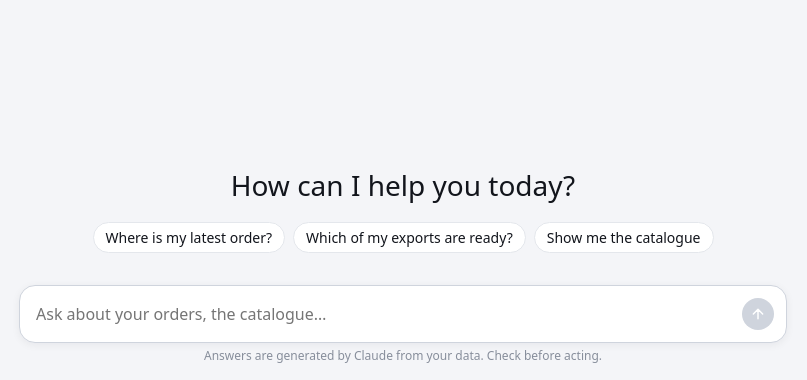
Test: AssistantPage › shows the error when the answer fails part-way
In the text box named "Your question": (385, 314) [36,298,734,330], type "Why?"
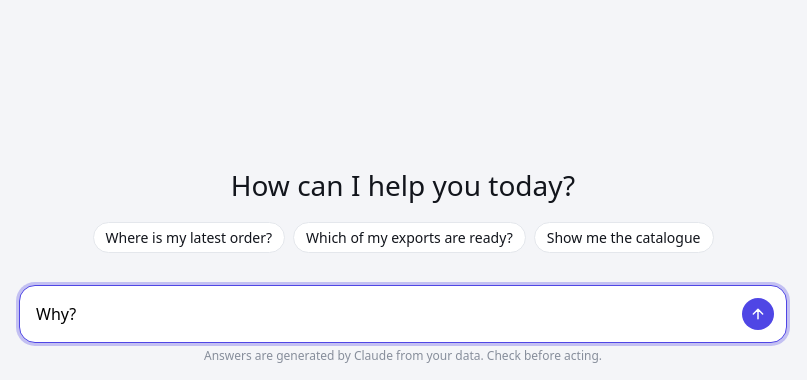
Click the button named "Send": click(758, 314) [742,298,774,330]
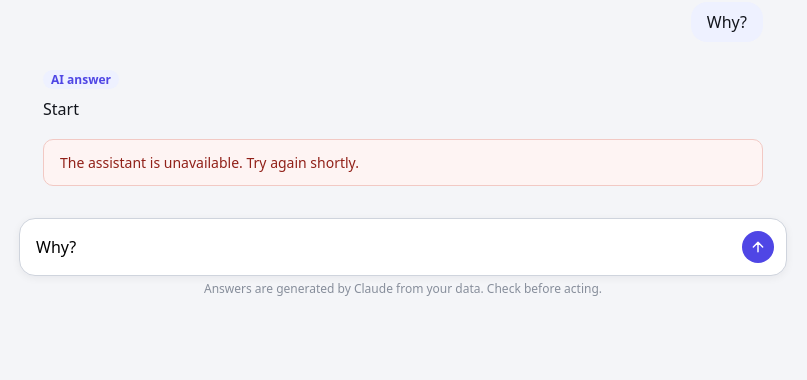
Check: the text "The assistant is unavailable. Try again shortly." is shown, box [43,139,763,186]
